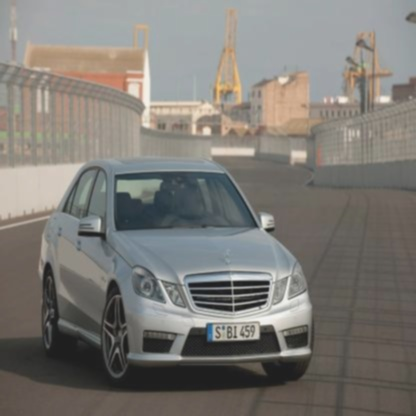Vehicle: (38, 158, 316, 387)
